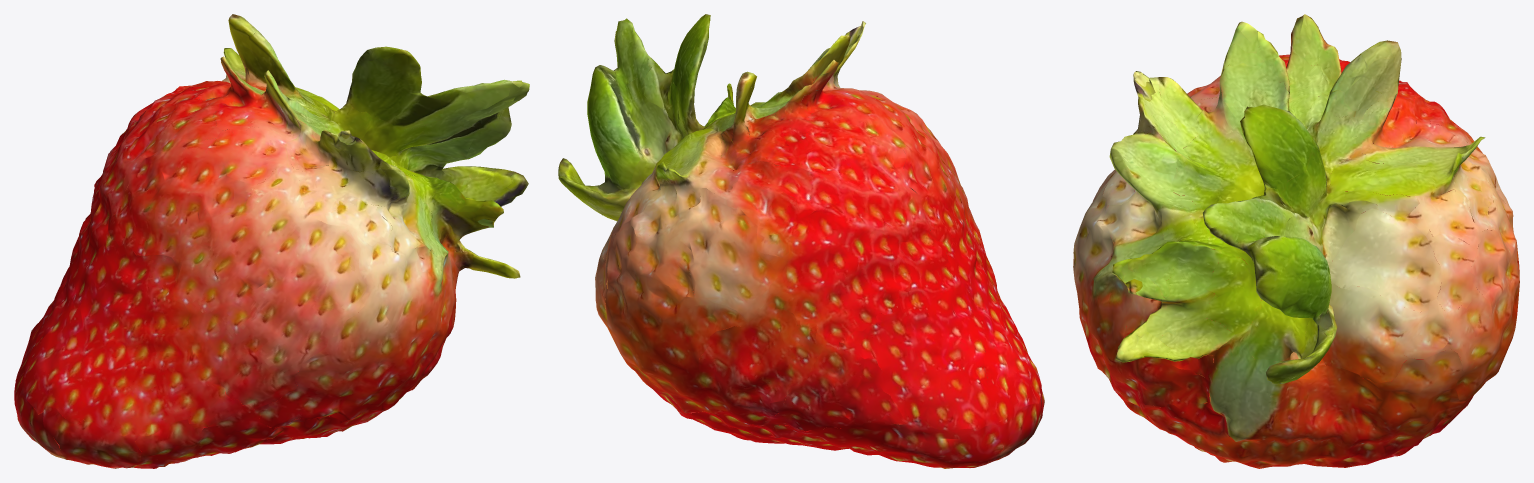
Rendered from strawberry-a.glb.
The picture shows the model from 3 angles, left to right: view 1: azimuth 30°, elevation 25°; view 2: azimuth 150°, elevation 25°; view 3: azimuth 270°, elevation 25°; orthographic projection. The views are drawn at different scales.
Parts seen in each view (by area): view 1: Object_2; view 2: Object_2; view 3: Object_2.
Part boxes in pixels (bbox=[...]): Object_2: bbox=[14, 14, 529, 468]; Object_2: bbox=[558, 14, 1044, 468]; Object_2: bbox=[1073, 14, 1519, 468].
Size of the model in its own units: 0.045 by 0.0326 by 0.0325.
1 material, 1 textured.
